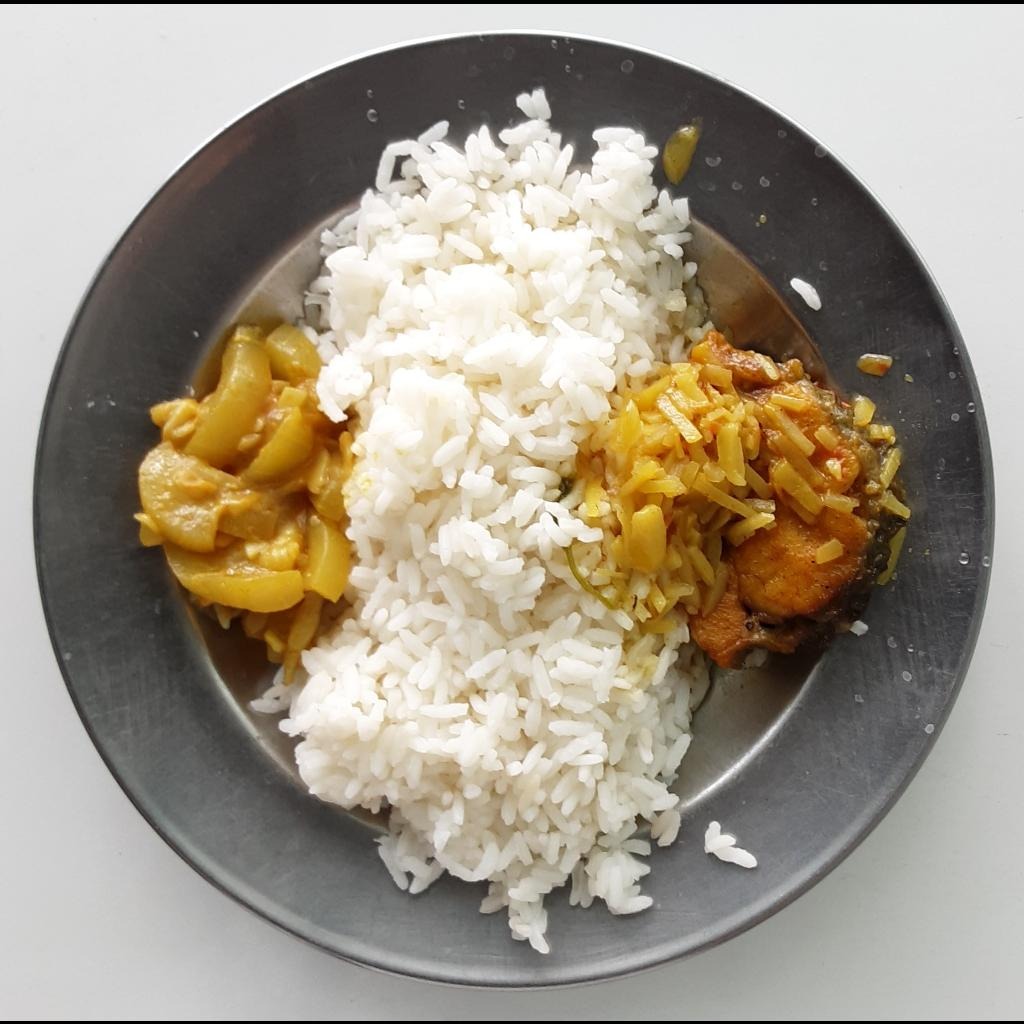fish: (688, 330, 895, 662)
lau: (131, 322, 361, 671)
potato: (578, 333, 858, 637), (853, 357, 919, 522)
rice: (244, 83, 708, 962)
